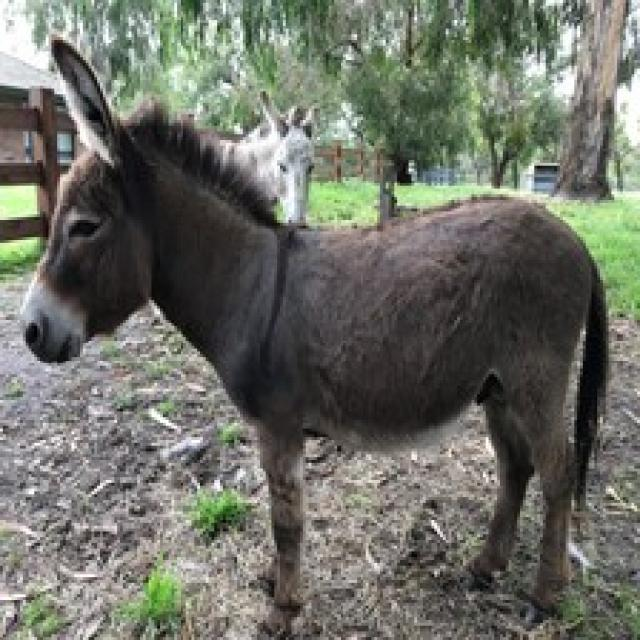Donkey: (41, 19, 587, 640)
